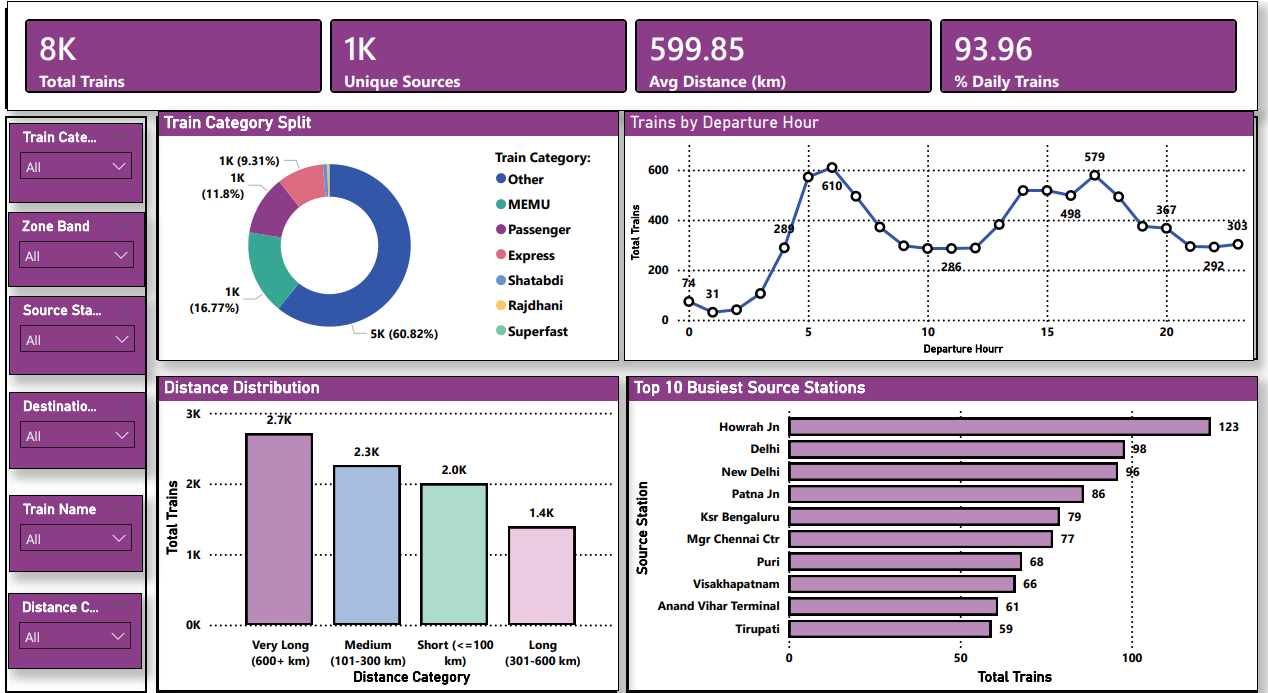

What the dashboard file says about the page in this screenshot:
{"tool":"powerbi","page":{"name":" Executive Overview","canvas":[1280,720],"ordinal":0},"visuals":[{"type":"cardVisual","fields":{"Data":["Measuress.Total Trains","Measuress.Unique Sources","Measuress.Avg Distance (km)","Measuress.% Daily Trains"]},"box":[9.7,0,1251.7,110.2],"z":0},{"type":"donutChart","title":" Train Category Split","fields":{"Y":["Measuress.Total Trains"],"Category":["IRCTC_cleaned.Train Category:"]},"box":[160.5,109.8,461.1,249.7],"z":1000},{"type":"clusteredBarChart","title":"Top 10 Busiest Source Stations","fields":{"Y":["Measuress.Total Trains"],"Category":["IRCTC_cleaned.Source Station"]},"box":[631.2,374.6,629.8,315.6],"z":2000},{"type":"clusteredColumnChart","title":"Distance Distribution","fields":{"Category":["IRCTC_cleaned.Distance Category"],"Y":["Measuress.Total Trains"]},"box":[160.5,374.6,461.1,315.6],"z":3000},{"type":"lineChart","title":"Trains by Departure Hour","fields":{"Category":["IRCTC_cleaned.Departure Hourr"],"Y":["Measuress.Total Trains"]},"box":[627.1,109.8,629.8,249.7],"z":4000},{"type":"slicer","fields":{"Values":["IRCTC_cleaned.Train Category"]},"box":[12.1,122.3,134.4,79.9],"z":4001},{"type":"slicer","fields":{"Values":["IRCTC_cleaned.Zone Band"]},"box":[10.9,210.6,136.8,75.1],"z":4002},{"type":"slicer","fields":{"Values":["IRCTC_cleaned.Source Station"]},"box":[12.1,295.4,136.8,78.7],"z":4004},{"type":"slicer","fields":{"Values":["IRCTC_cleaned.Destination Station"]},"box":[12.1,391,136.8,77.5],"z":4005},{"type":"slicer","fields":{"Values":["IRCTC_cleaned.Train Name"]},"box":[12.1,493.9,134.4,77.5],"z":4006},{"type":"slicer","fields":{"Values":["IRCTC_cleaned.Distance Category"]},"box":[10.9,591.9,134.4,76.3],"z":4007}]}

Visuals, with their boxes in screenshot pixels (x1, y1, x2, y2), scaled from the page's 1280x720 canvas onto the 1268x693 screenshot:
cardVisual - Measuress.Total Trains x Measuress.Unique Sources: 10, 0, 1250, 106
" Train Category Split" donutChart: 159, 106, 616, 346
"Top 10 Busiest Source Stations" clusteredBarChart: 625, 361, 1249, 664
"Distance Distribution" clusteredColumnChart: 159, 361, 616, 664
"Trains by Departure Hour" lineChart: 621, 106, 1245, 346
slicer - IRCTC_cleaned.Train Category: 12, 118, 145, 195
slicer - IRCTC_cleaned.Zone Band: 11, 203, 146, 275
slicer - IRCTC_cleaned.Source Station: 12, 284, 148, 360
slicer - IRCTC_cleaned.Destination Station: 12, 376, 148, 451
slicer - IRCTC_cleaned.Train Name: 12, 475, 145, 550
slicer - IRCTC_cleaned.Distance Category: 11, 570, 144, 643
